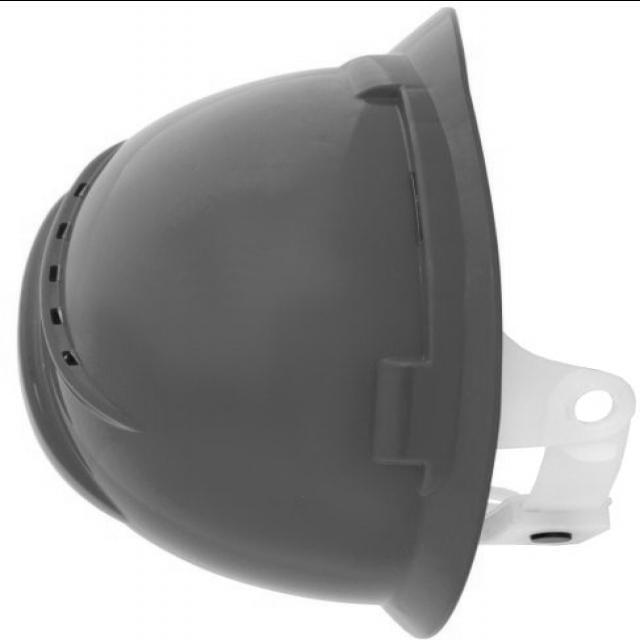safety_helmet: (18, 6, 640, 638)
